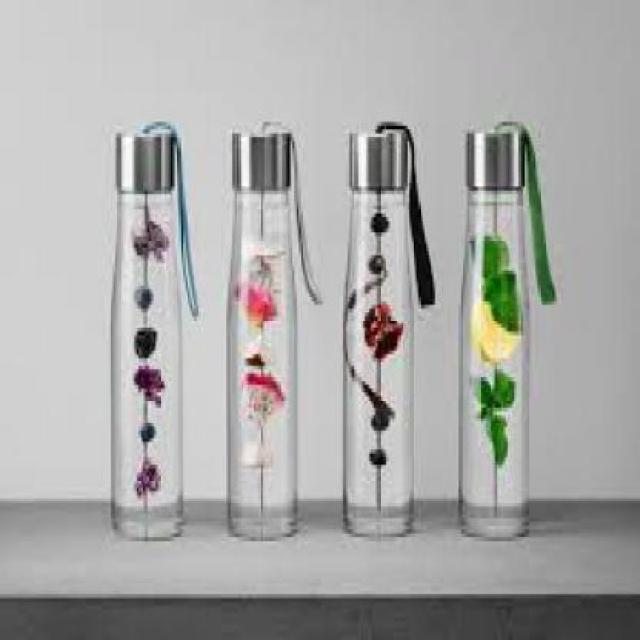Drinking: (214, 95, 315, 552), (452, 80, 551, 537), (89, 121, 194, 542)
